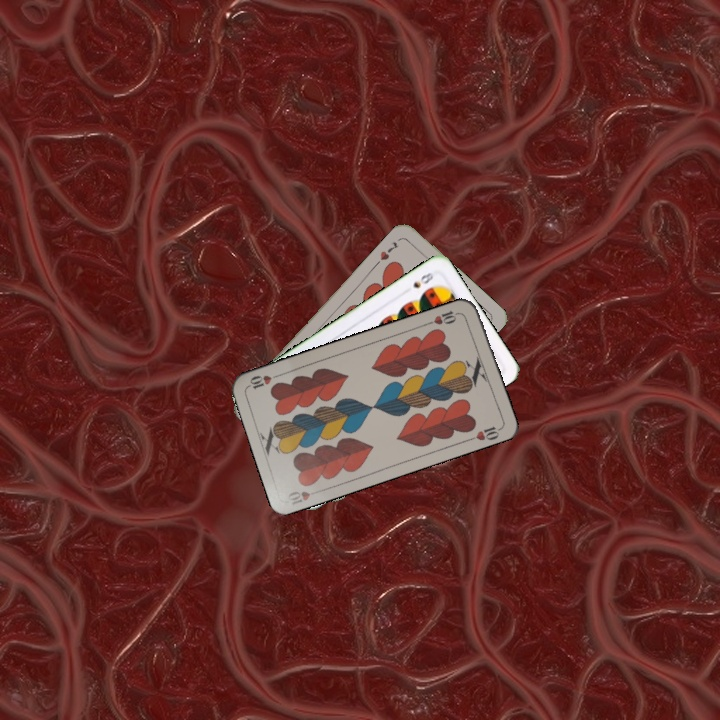H10: (284, 486, 324, 508), (423, 307, 463, 327)
H7: (376, 237, 401, 263)
S8: (409, 266, 437, 291)
